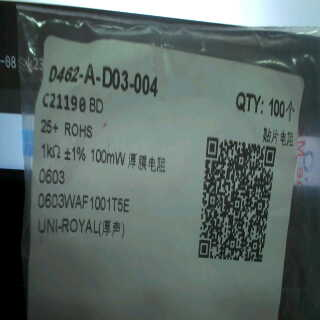1kR: (40, 139, 65, 161)
